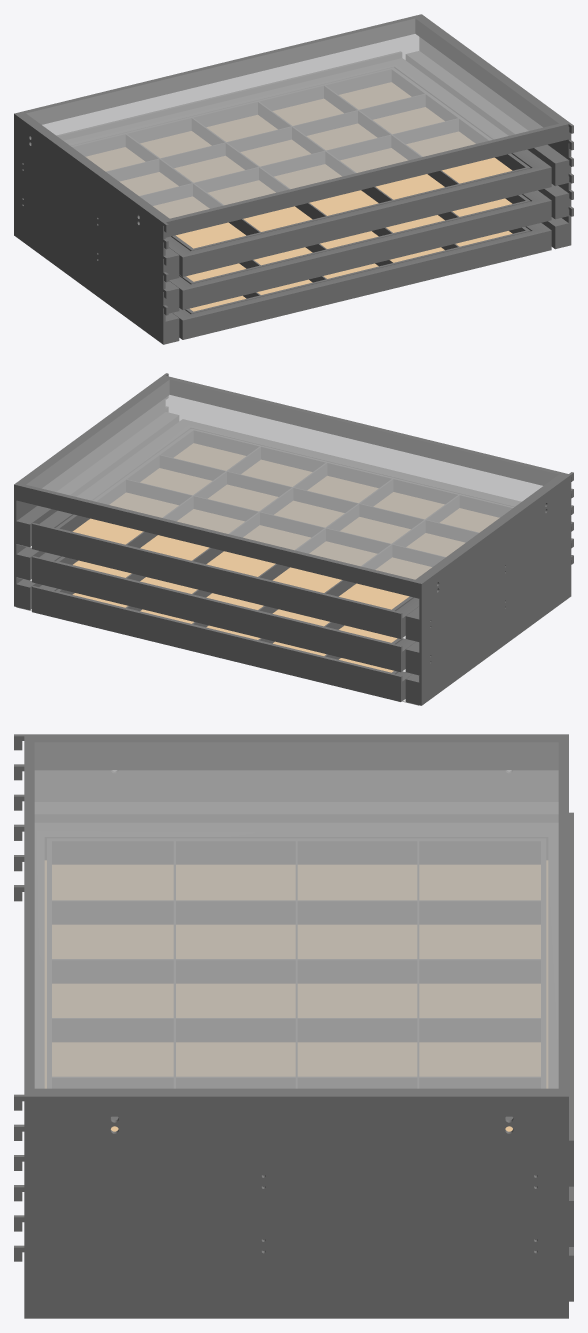
The picture shows the model from 3 angles, top to bottom: view 1: azimuth 30°, elevation 25°; view 2: azimuth 150°, elevation 25°; view 3: azimuth 270°, elevation 25°; orthographic projection. The views are drawn at different scales.
Visible parts, largest first — view 1: Geom3D (×7); view 2: Geom3D (×7); view 3: Geom3D (×3).
Part boxes in pixels (x1,y1,x2,y2): Geom3D (×7): (14, 14, 573, 344); Geom3D (×7): (14, 373, 573, 705); Geom3D (×3): (14, 734, 573, 1318).
Bounding box in the file's own units: 0.8348 × 0.2394 × 0.545.
